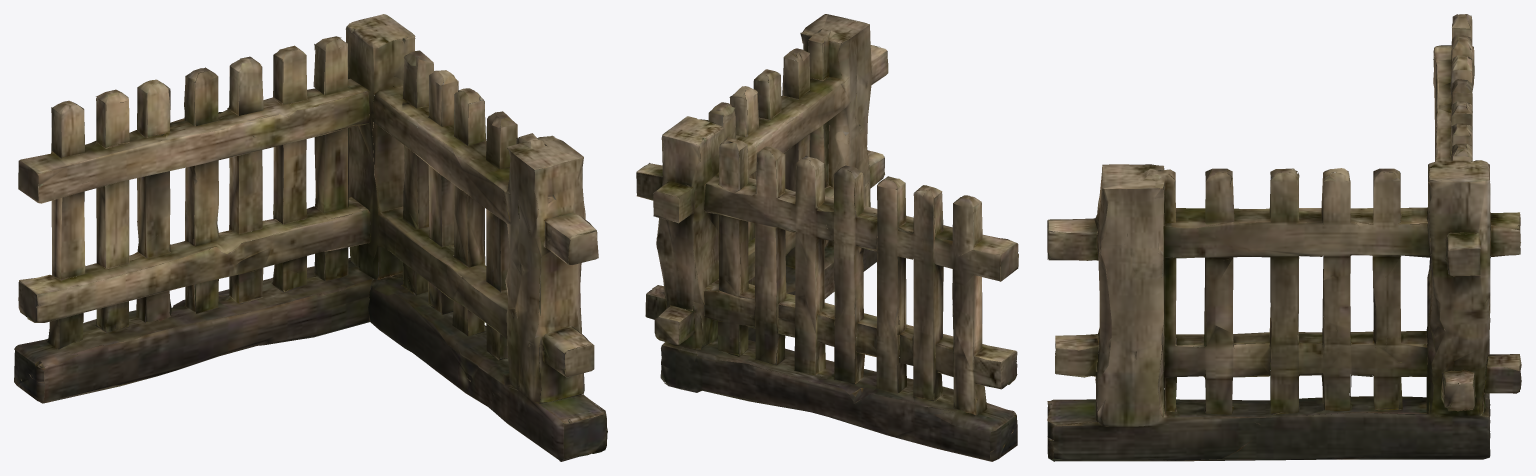
The model's file is town-gate-wing-corner.glb.
3 renders of one model, left to right at view 1: azimuth 30°, elevation 25°; view 2: azimuth 150°, elevation 25°; view 3: azimuth 270°, elevation 25°, orthographic. The views are drawn at different scales.
Visible parts, largest first — view 1: Mesh_0; view 2: Mesh_0; view 3: Mesh_0.
Boxes of the visible parts, x1,y1,x2,y2 form: Mesh_0: [14, 14, 607, 461]; Mesh_0: [636, 14, 1018, 461]; Mesh_0: [1047, 14, 1521, 461].
Size of the model in its own units: 1.9 by 1.26 by 1.9.
Materials: 1 (1 with a texture image).
